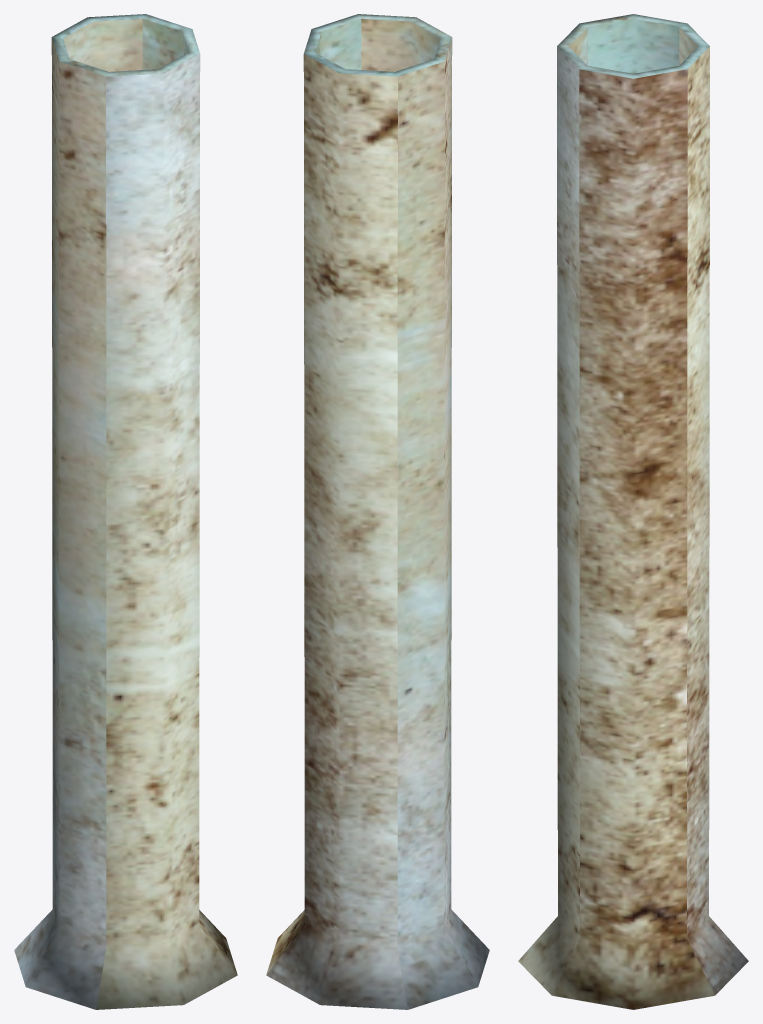
The model's file is graduated_cylinder.FBX.
3 renders of one model, left to right at view 1: azimuth 30°, elevation 25°; view 2: azimuth 150°, elevation 25°; view 3: azimuth 270°, elevation 25°, orthographic.
Parts seen in each view (by area): view 1: graduated_cylinder; view 2: graduated_cylinder; view 3: graduated_cylinder.
Part boxes in pixels (left/top/right/bottom): graduated_cylinder: left=14, top=14, right=237, bottom=1009; graduated_cylinder: left=266, top=14, right=489, bottom=1009; graduated_cylinder: left=518, top=14, right=748, bottom=1009.
Size of the model in its own units: 12.4 by 54.18 by 12.4.
